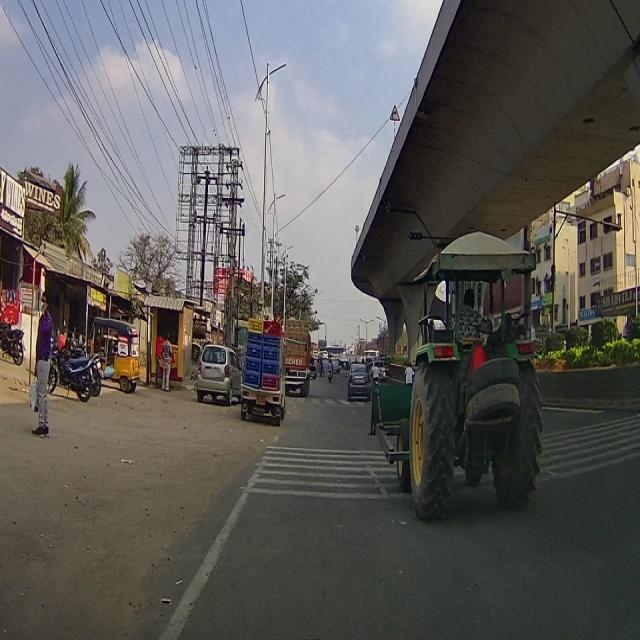right-hand-curve: (390, 105, 399, 122)
